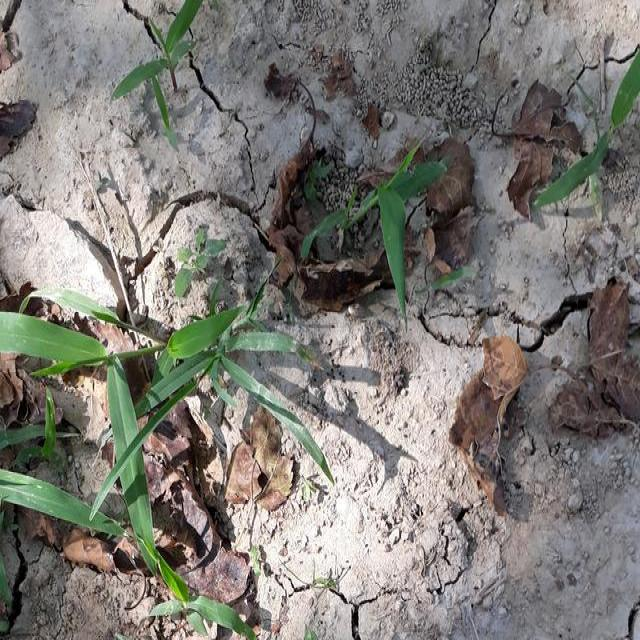weed: (0, 298, 258, 592)
